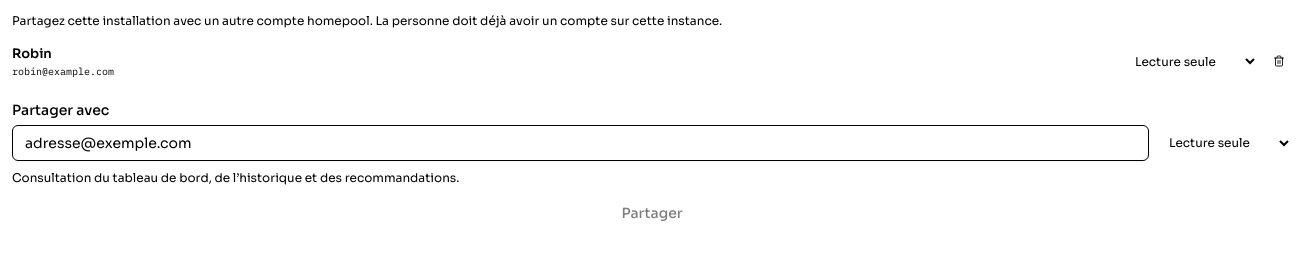
Test: SharingTab › explains that an unknown email has no account yet
Expected: the text "Robin" is shown, [12,45,52,62]
Step 1. Type "nobody@example.com" into the field with placeholder "adresse@exemple.com" → x=580, y=142, box [12,124,1149,160]
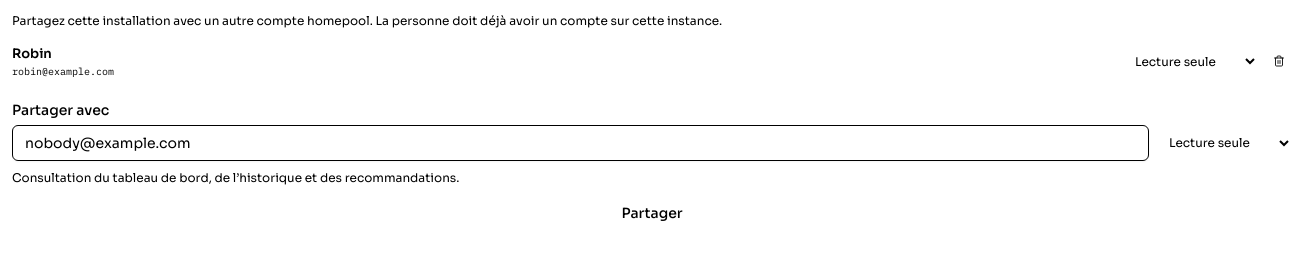
Step 2. Click the button "Partager" → x=652, y=212, box [12,194,1292,230]
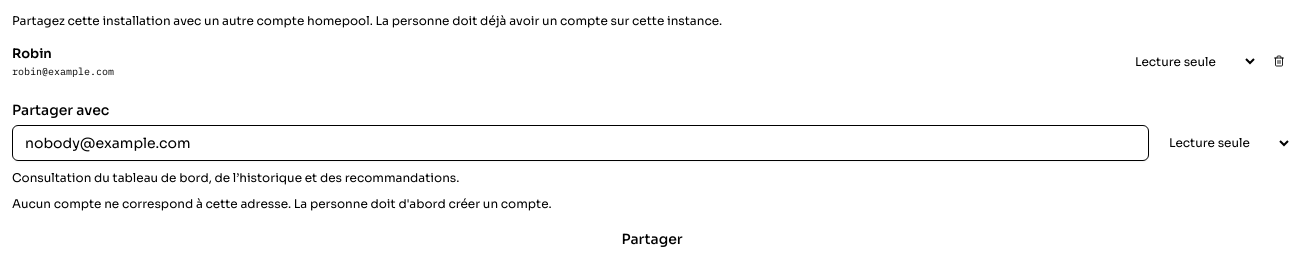
Result: the text "Aucun compte ne correspond à cette adresse. La personne doit d'abord créer un compte." is shown at [12,196,552,210]
